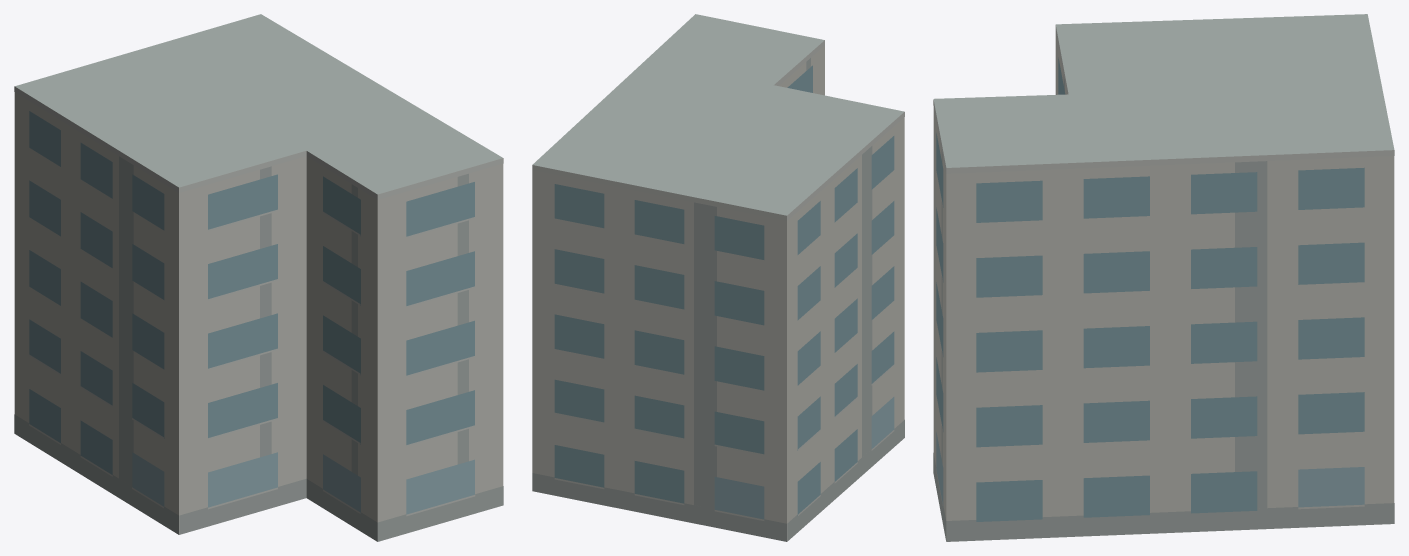
File: survey-upis-32794182.glb
The picture shows the model from 3 angles, left to right: view 1: azimuth 30°, elevation 25°; view 2: azimuth 150°, elevation 25°; view 3: azimuth 270°, elevation 25°; orthographic projection. The views are drawn at different scales.
Visible parts, largest first — view 1: survey-upis-32794182.tmp; view 2: survey-upis-32794182.tmp; view 3: survey-upis-32794182.tmp.
Boxes of the visible parts, x1,y1,x2,y2 form: survey-upis-32794182.tmp: (14,14,503,541); survey-upis-32794182.tmp: (532,14,904,541); survey-upis-32794182.tmp: (933,14,1394,541).
Size of the model in its own units: 13.48 by 15.25 by 17.05.
